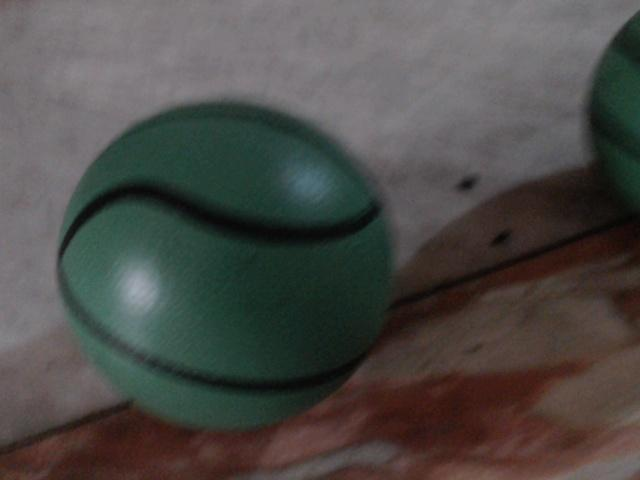Sports-Ball: (53, 107, 392, 431)
